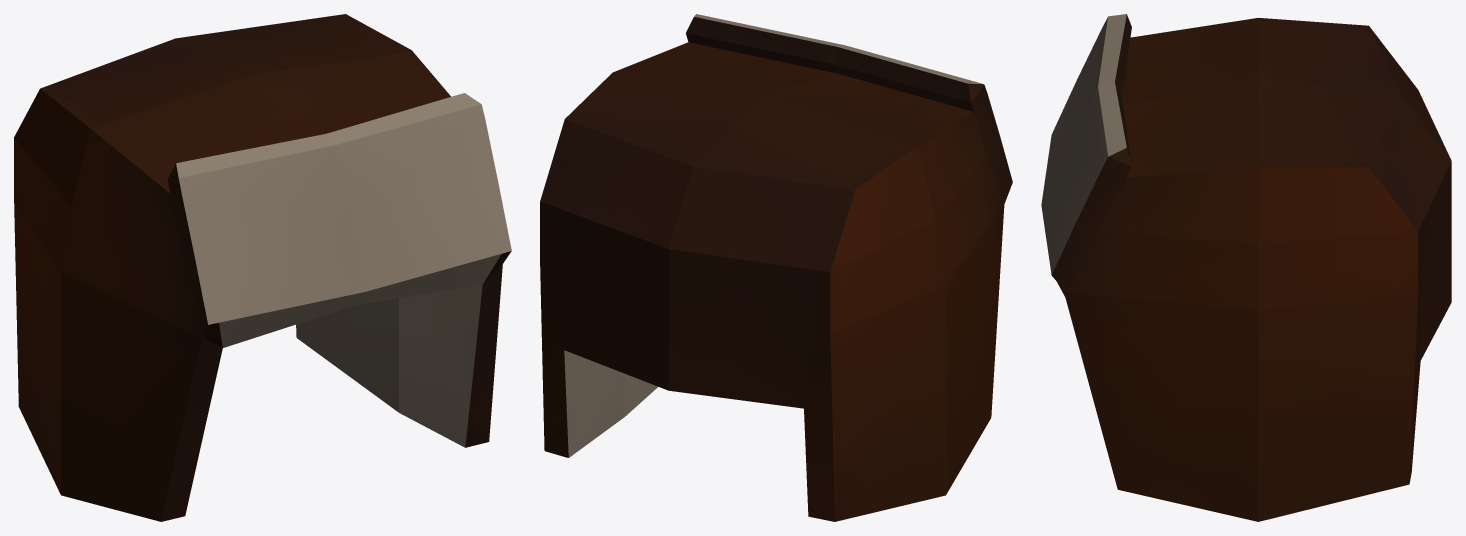
3 renders of one model, left to right at view 1: azimuth 30°, elevation 25°; view 2: azimuth 150°, elevation 25°; view 3: azimuth 270°, elevation 25°, orthographic. The views are drawn at different scales.
Visible parts, largest first — view 1: ushanka; view 2: ushanka; view 3: ushanka.
Part boxes in pixels (x1,y1,x2,y2): ushanka: (14,14,511,521); ushanka: (540,14,1012,521); ushanka: (1041,14,1451,521).
Size of the model in its own units: 0.2879 by 0.2707 by 0.2832.
1 material, 1 textured.
